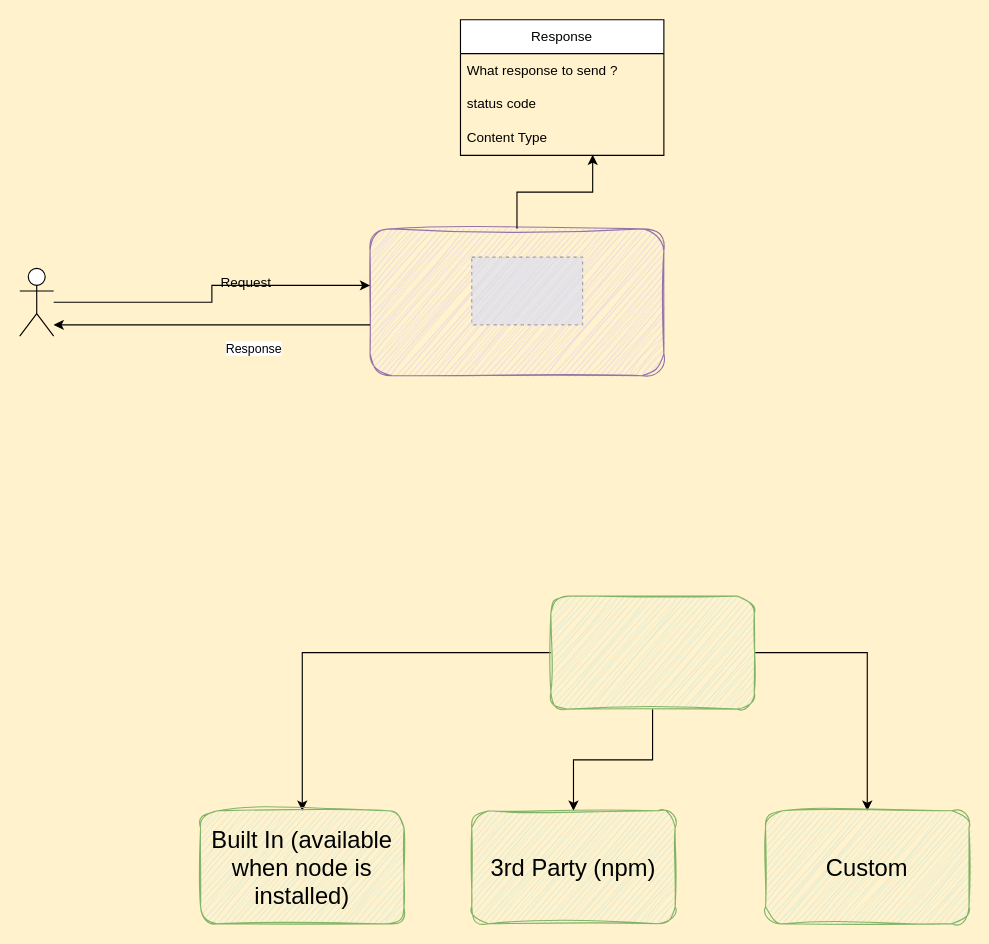
Image size: 989x944. Some labels were removed from this diagram. Grey dashed boxes stand in for pictures. Each missing label, with the centre of its shape:
"Client" goes at point (36, 301).
"Modules" goes at point (652, 652).
